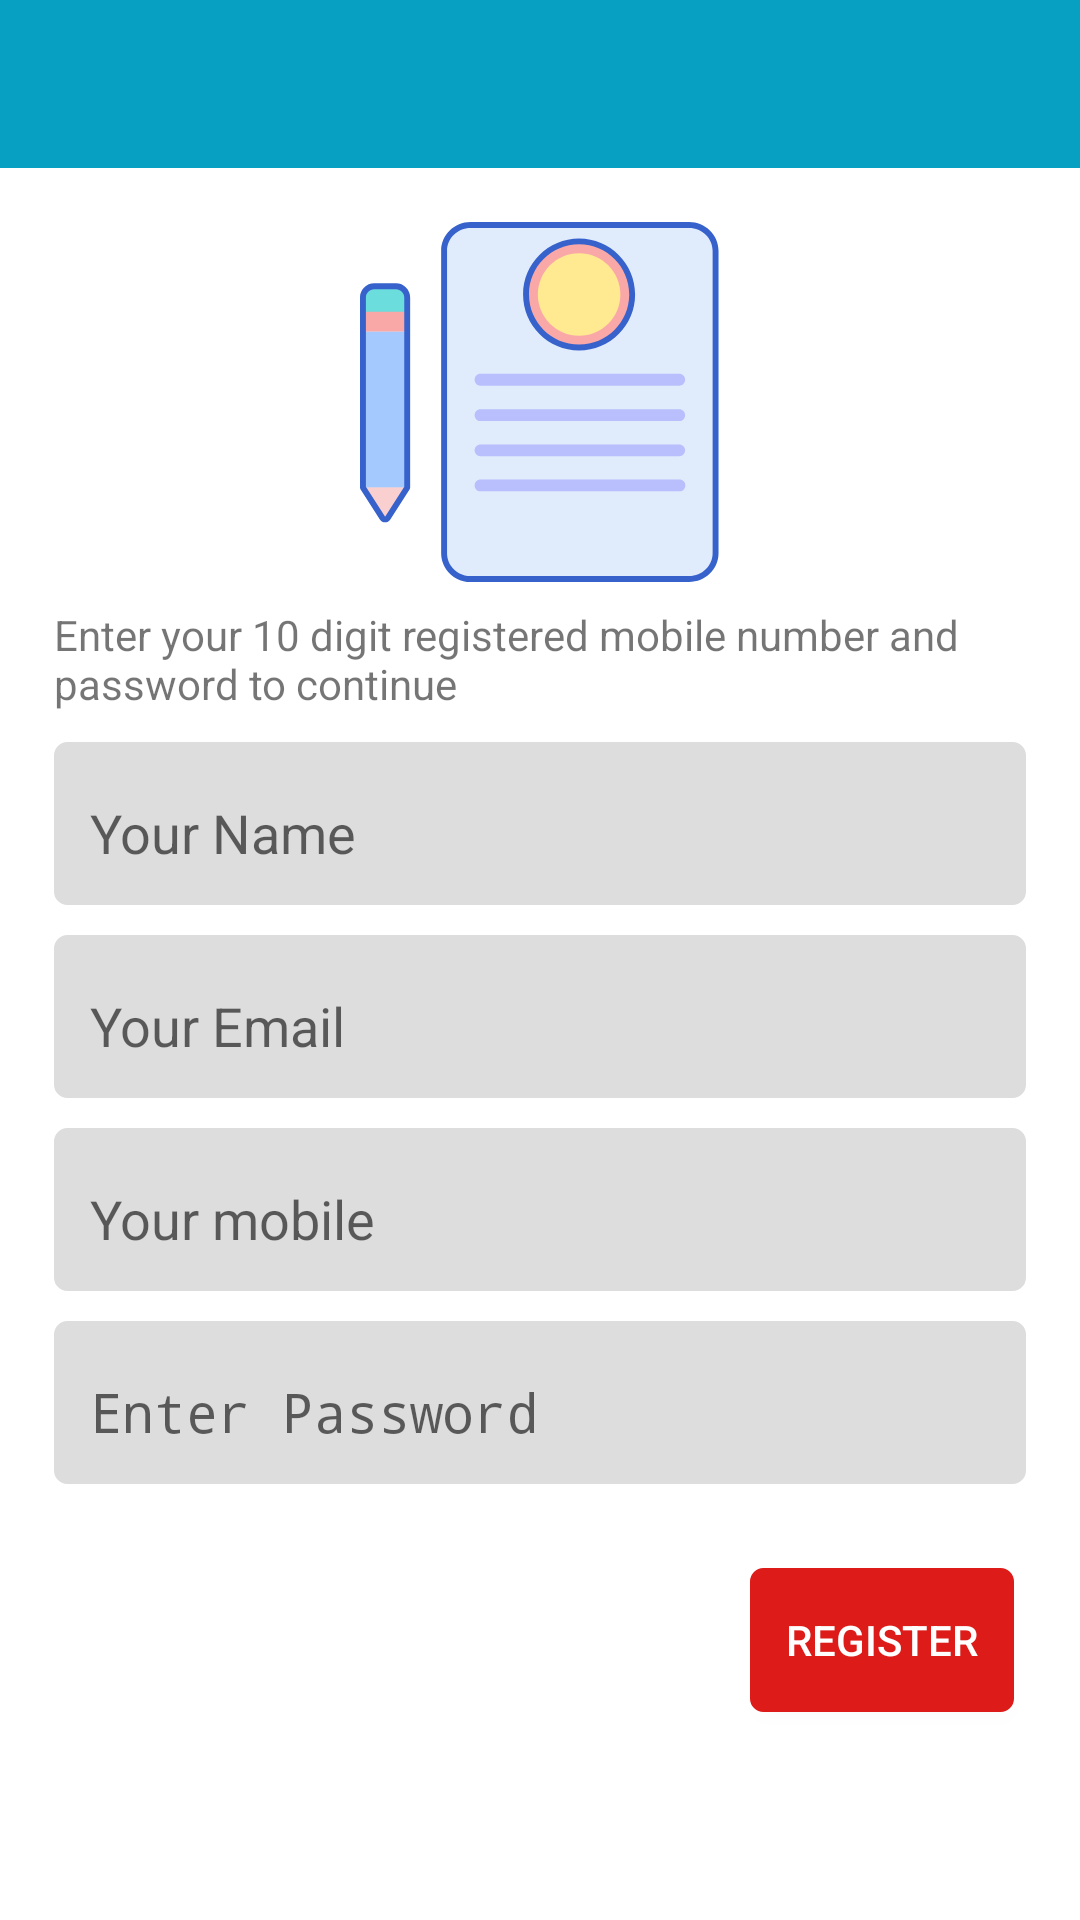

Icon bounding boxes for this 1080*1920 phone screenshot, format {"x1": x1, "y1": y1, "x2": x2, "y2": y2}:
registration: {"x1": 360, "y1": 222, "x2": 719, "y2": 582}
